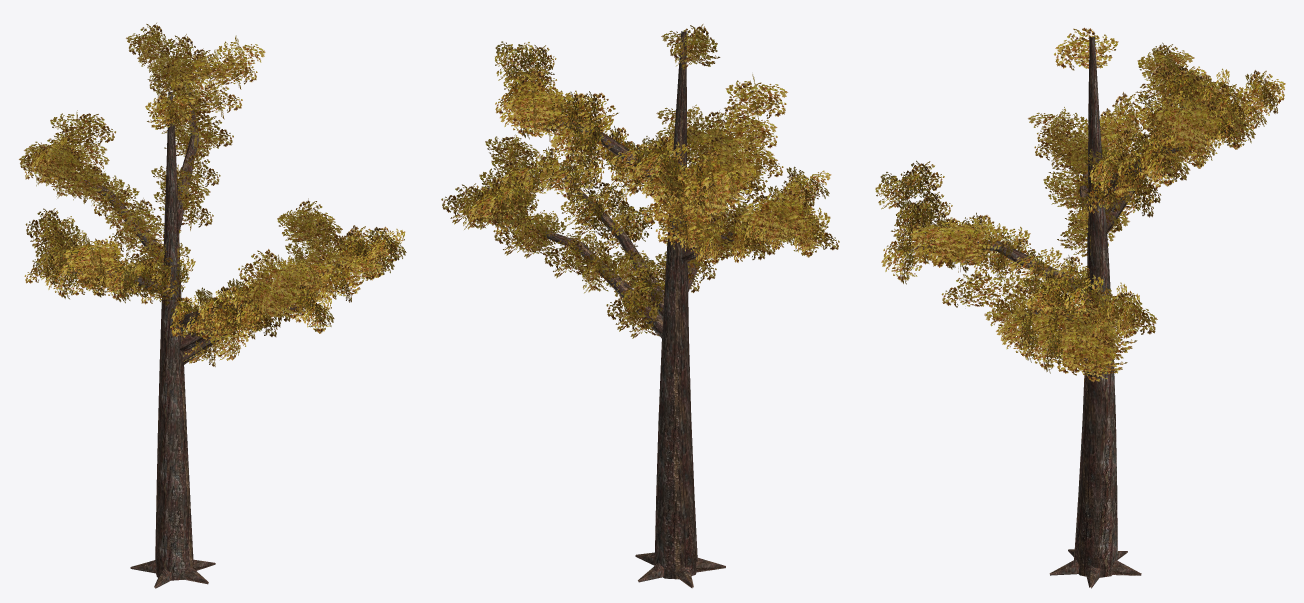
The model's file is tree_3d_01_yellow_lod1.glb.
3 views of the same model, side by side, from view 1: azimuth 30°, elevation 25°; view 2: azimuth 150°, elevation 25°; view 3: azimuth 270°, elevation 25° (orthographic). The views are drawn at different scales.
Visible parts, largest first — view 1: foliage_cards, wood_geometry; view 2: foliage_cards, wood_geometry; view 3: foliage_cards, wood_geometry.
Boxes of the visible parts, box(x1,y1,x2,y2) form: foliage_cards: box(19, 23, 406, 366); wood_geometry: box(63, 71, 346, 588); foliage_cards: box(441, 24, 839, 338); wood_geometry: box(500, 31, 766, 588); foliage_cards: box(875, 27, 1285, 382); wood_geometry: box(915, 36, 1233, 588).
Bounding box in the file's own units: 7.11 × 9.14 × 6.44.
Materials: 2 (2 with a texture image).
